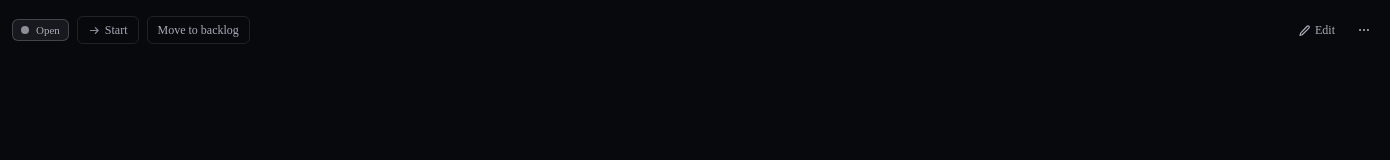
Scenario: TaskHeader admin status override › admin: the picker is hidden until Change status is chosen in the menu, then focus moves to it
What coordinates should you click on to do the following:
click the button named "More actions"
I would click on:
 (1364, 30)
Its box is [1350,16,1378,44].
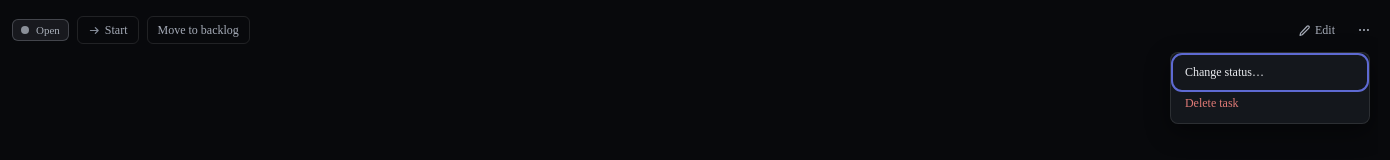
What coordinates should you click on to do the following:
click the button "Change status…"
I would click on:
 (1270, 72)
Its box is [1175,57,1365,88].
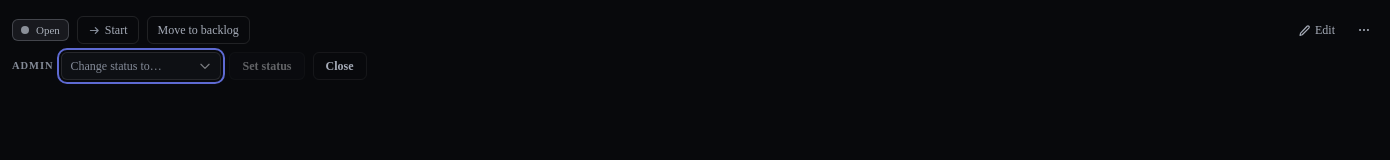
What coordinates should you click on to do the following:
click the button "Close"
I would click on:
 (340, 66)
Its box is [312,52,366,80].
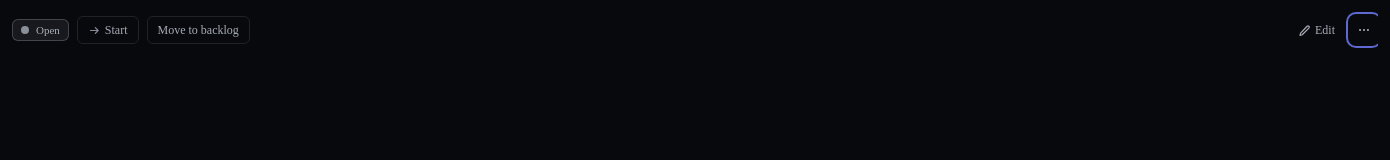
Result: the dropdown is gone
